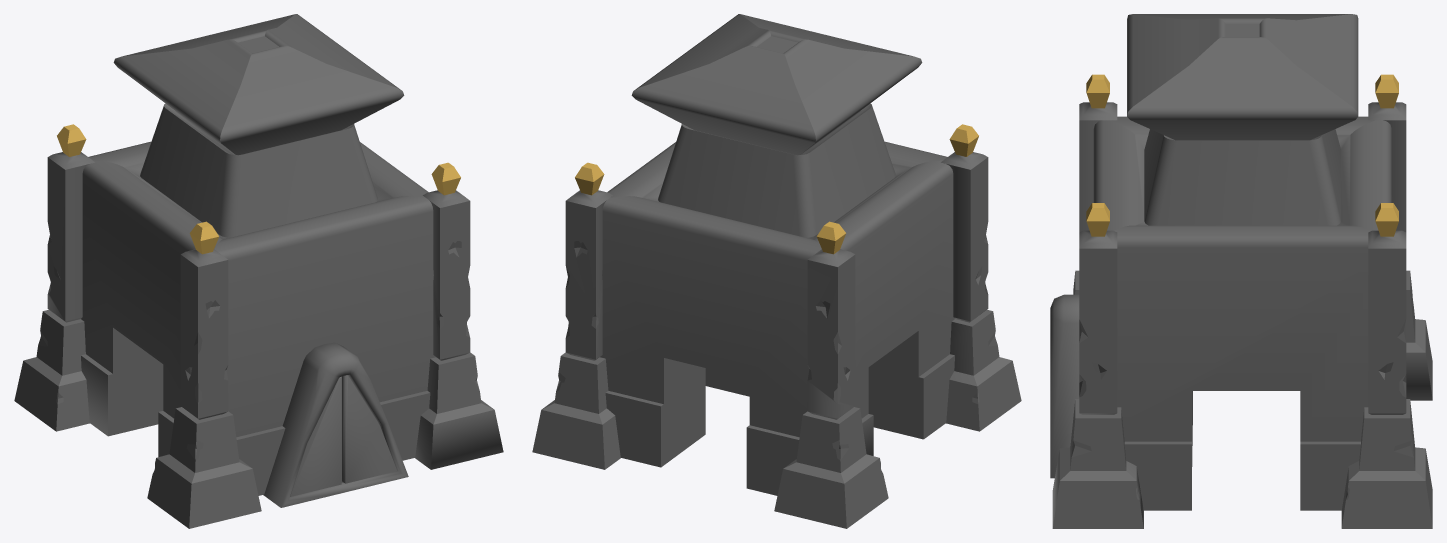
File: Main Tower LV1.fbx
The picture shows the model from 3 angles, left to right: view 1: azimuth 30°, elevation 25°; view 2: azimuth 150°, elevation 25°; view 3: azimuth 270°, elevation 25°; orthographic projection. The views are drawn at different scales.
Parts seen in each view (by area): view 1: Cube.005; view 2: Cube.005; view 3: Cube.005.
Boxes of the visible parts, <box> form: Cube.005: <box>14,14,503,528</box>; Cube.005: <box>532,14,1021,528</box>; Cube.005: <box>1050,14,1432,528</box>.
Bounding box in the file's own units: 254 × 297 × 246.
